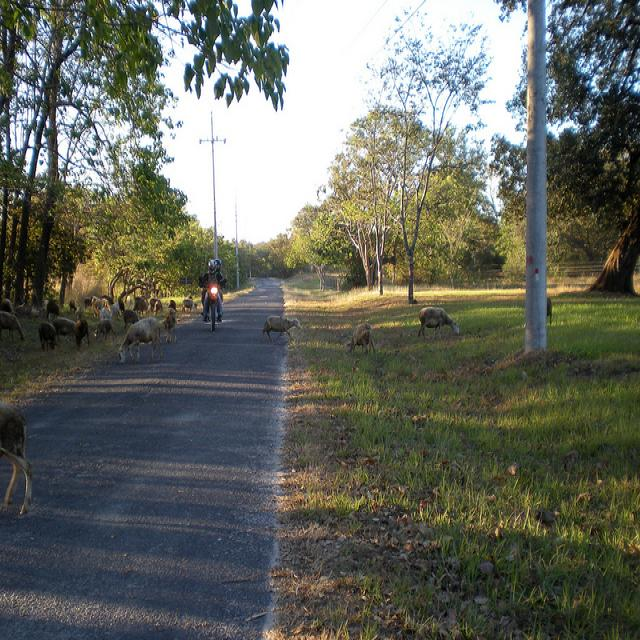motor: (199, 277, 226, 333)
